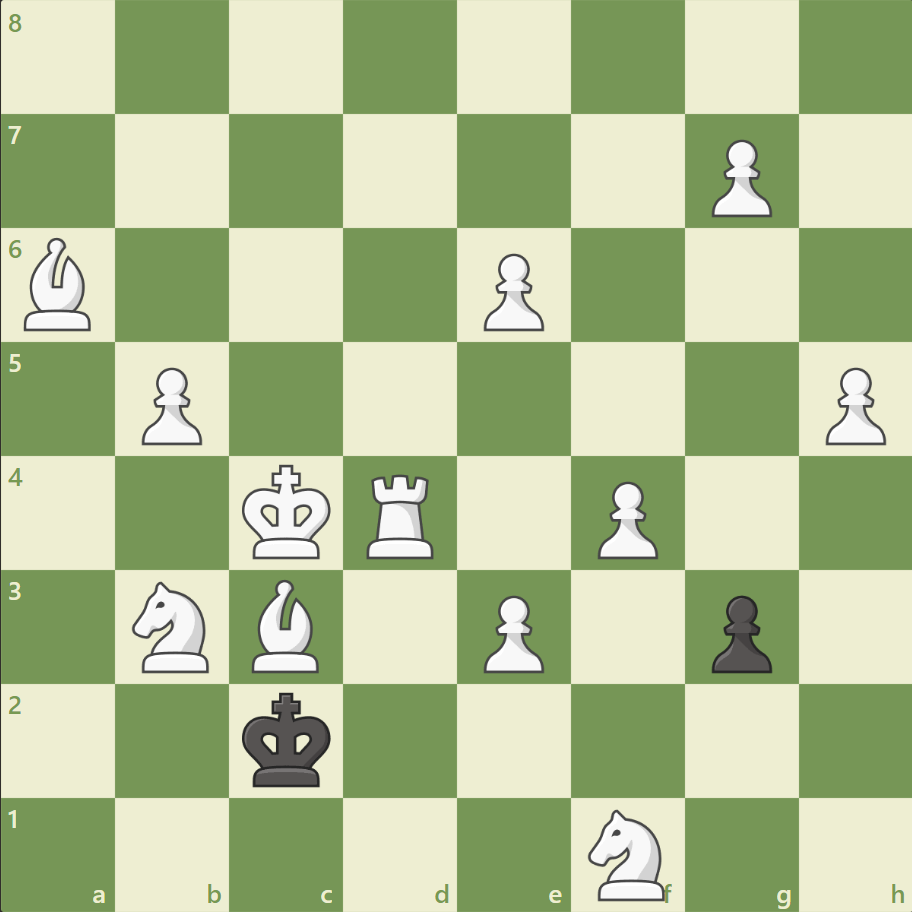B: (17, 233, 101, 336), (244, 574, 328, 676)
K: (238, 458, 338, 566)
N: (124, 575, 222, 677), (579, 802, 676, 904)
P: (701, 132, 776, 223), (474, 246, 549, 337), (133, 359, 208, 450), (474, 586, 549, 677), (815, 359, 889, 450), (588, 473, 662, 564)
R: (360, 466, 442, 563)
k: (238, 685, 338, 793)
p: (701, 586, 776, 677)
